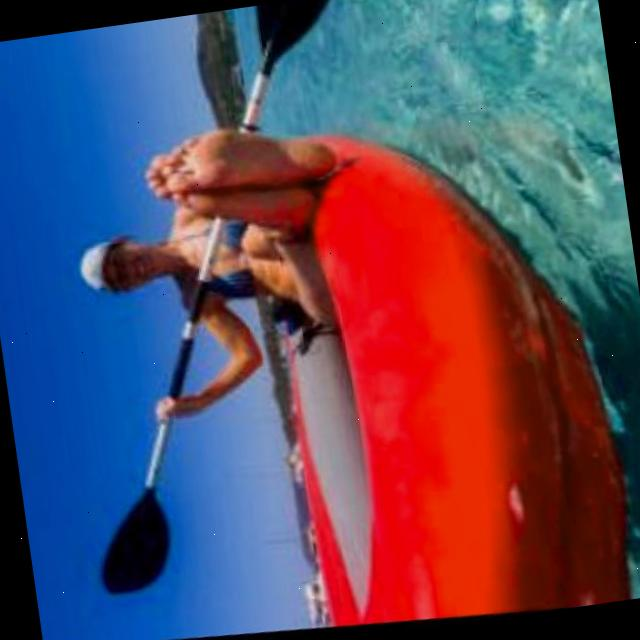kayak: (294, 141, 631, 632)
